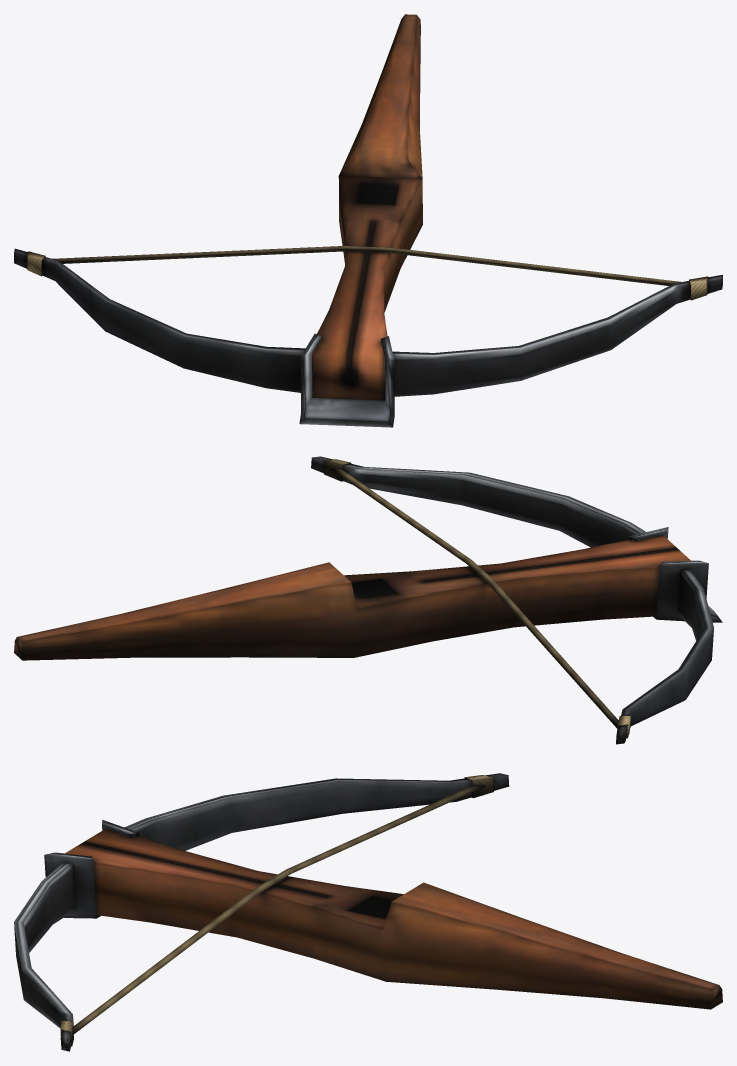
Rendered from crossbow 1.fbx.
3 renders of one model, top to bottom at view 1: azimuth 30°, elevation 25°; view 2: azimuth 150°, elevation 25°; view 3: azimuth 270°, elevation 25°, orthographic. The views are drawn at different scales.
Parts seen in each view (by area): view 1: Crossbow1; view 2: Crossbow1; view 3: Crossbow1.
Boxes of the visible parts, left/top/right/bottom form: Crossbow1: left=14, top=14, right=722, bottom=427; Crossbow1: left=14, top=456, right=722, bottom=744; Crossbow1: left=14, top=773, right=722, bottom=1051.
Bounding box in the file's own units: 0.8317 × 0.1592 × 0.9302.
